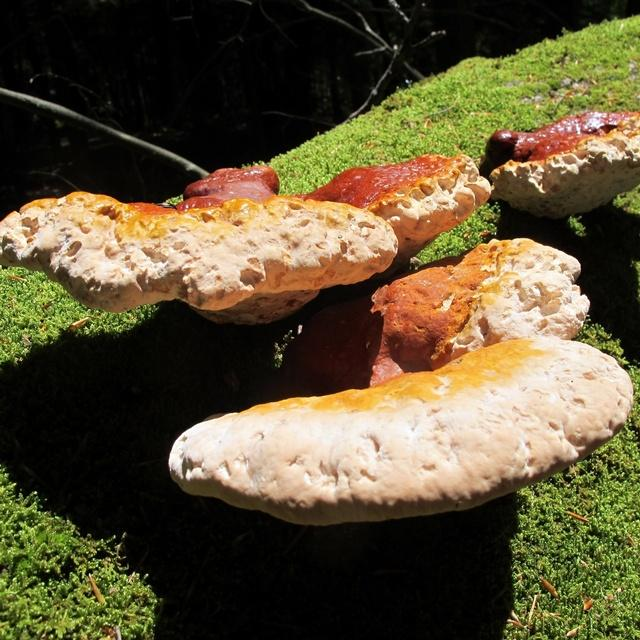Non-edible Mushroom: (3, 127, 640, 304), (166, 334, 634, 526)
